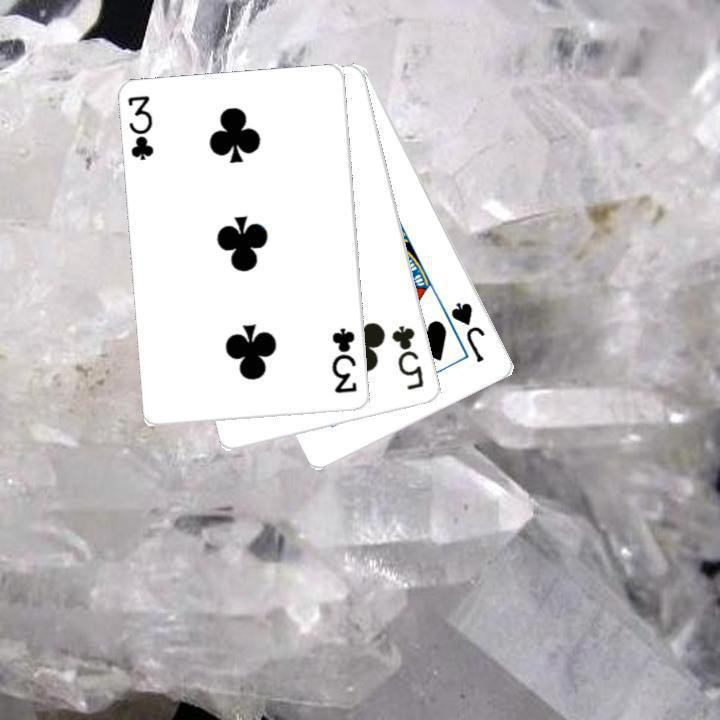3: (123, 91, 156, 163), (328, 324, 360, 396)
5: (387, 321, 427, 392)
J: (447, 297, 488, 365)
